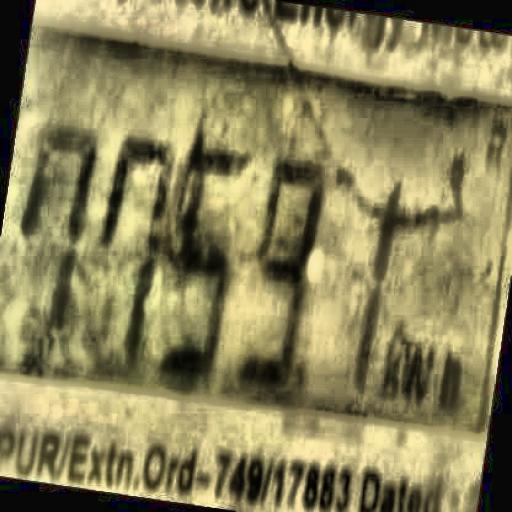DISPLAY_REGION: (0, 64, 505, 423)
SERIAL_REGION: (33, 141, 462, 408)
